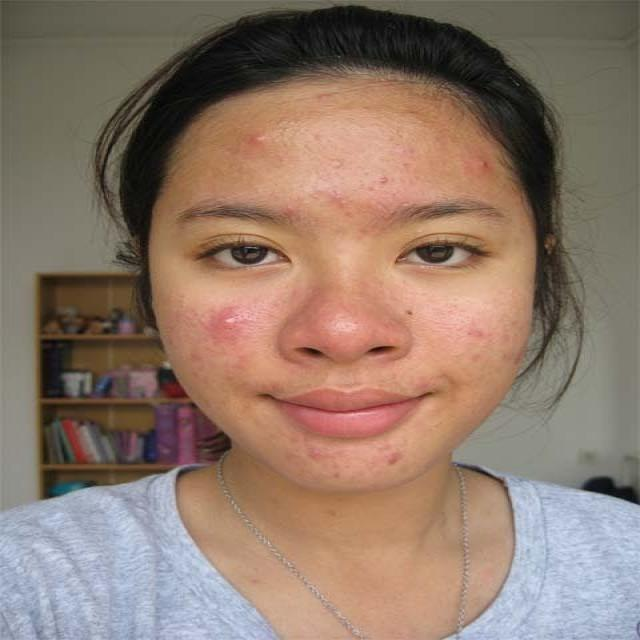Acne: (157, 288, 260, 382), (265, 430, 420, 490), (305, 170, 400, 226), (460, 316, 525, 379), (242, 116, 289, 163), (461, 144, 501, 184)
